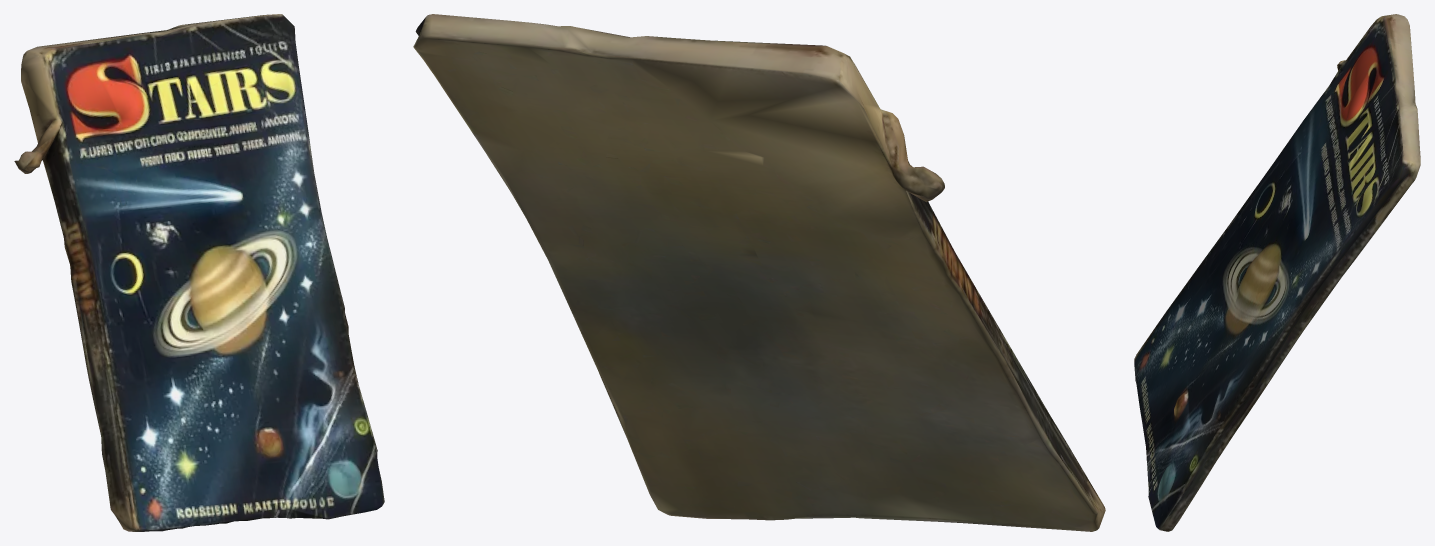
Rendered from book2.glb.
3 views of the same model, side by side, from view 1: azimuth 30°, elevation 25°; view 2: azimuth 150°, elevation 25°; view 3: azimuth 270°, elevation 25° (orthographic). The views are drawn at different scales.
Visible parts, largest first — view 1: node_0; view 2: node_0; view 3: node_0.
Part boxes in pixels (x1,y1,x2,y2): node_0: (14, 14, 384, 531); node_0: (413, 14, 1105, 531); node_0: (1134, 14, 1420, 531).
Bounding box in the file's own units: 0.7184 × 0.962 × 0.6018.
Materials: 1 (1 with a texture image).
